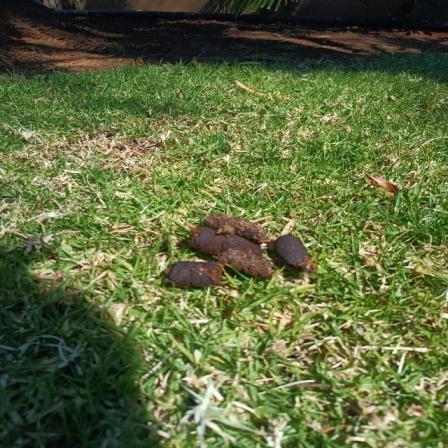dog-poop: (165, 205, 328, 296)
